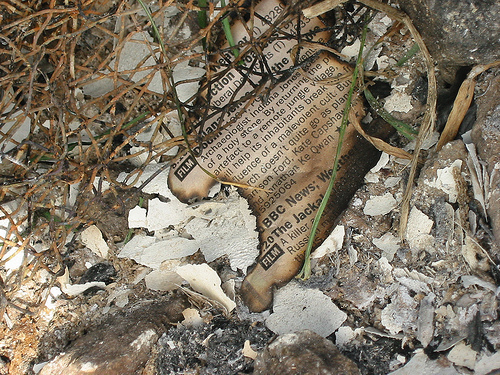litter: (167, 0, 398, 315)
